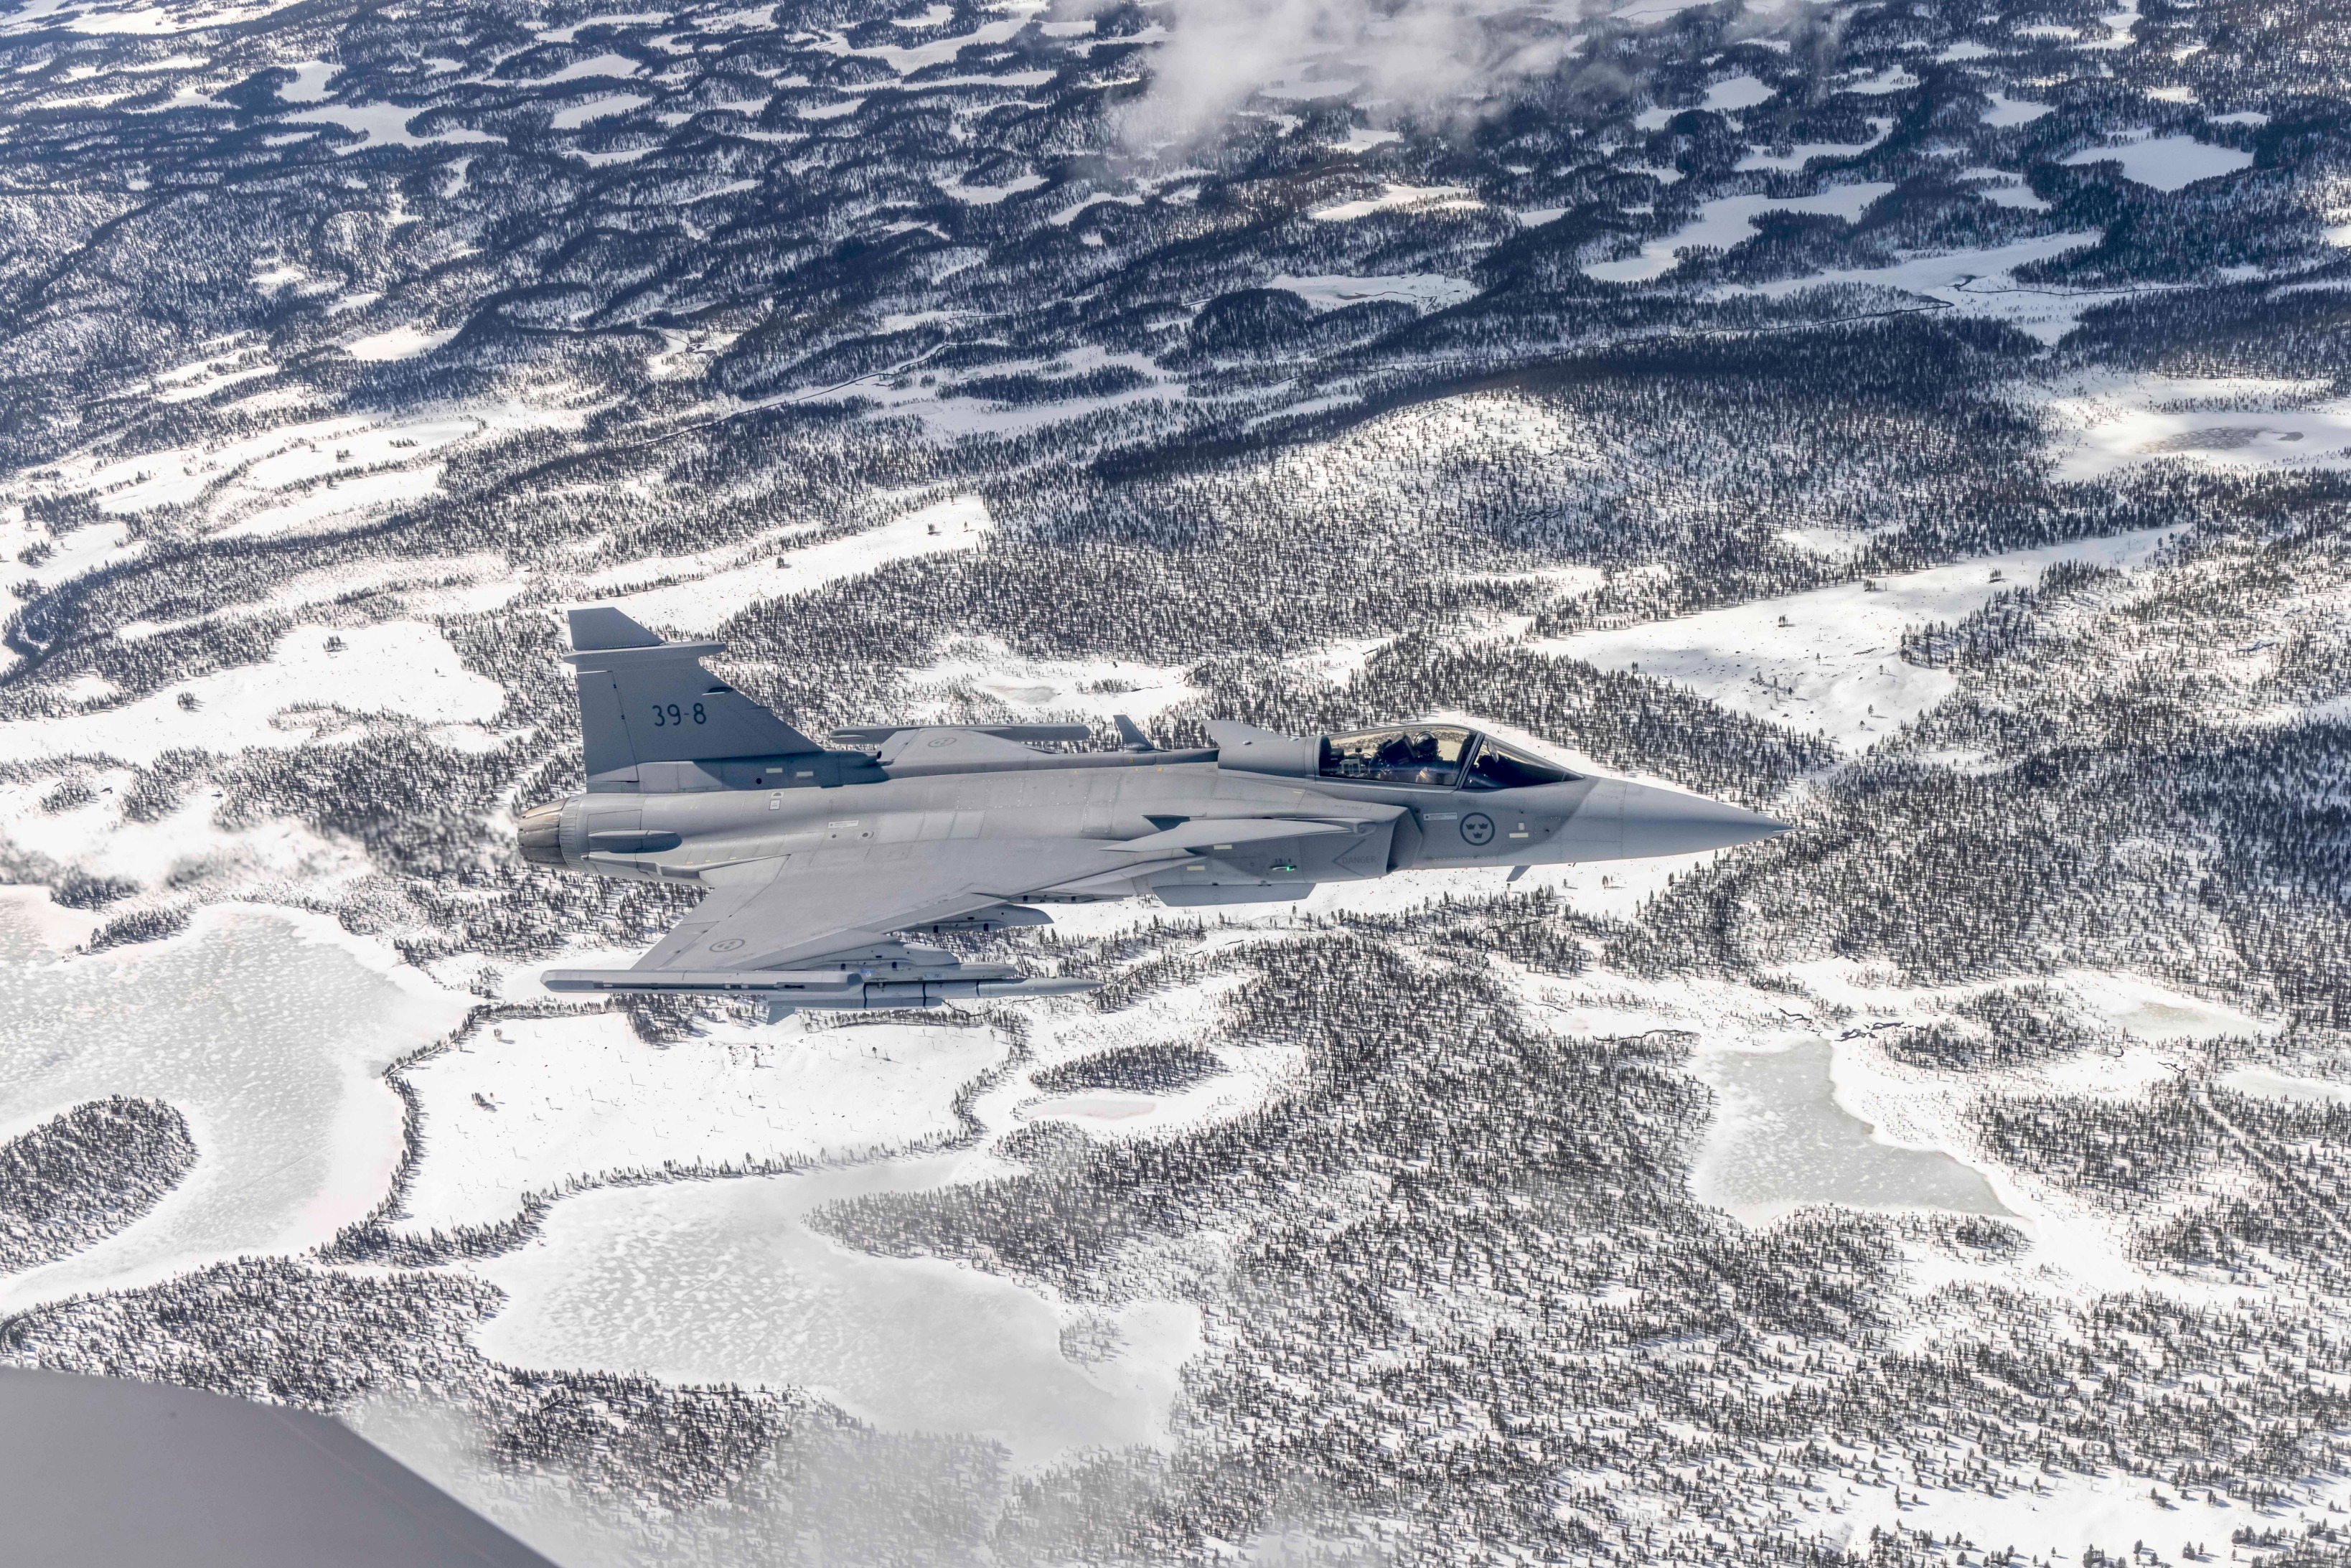JAS39: (516, 605, 1861, 1025)
